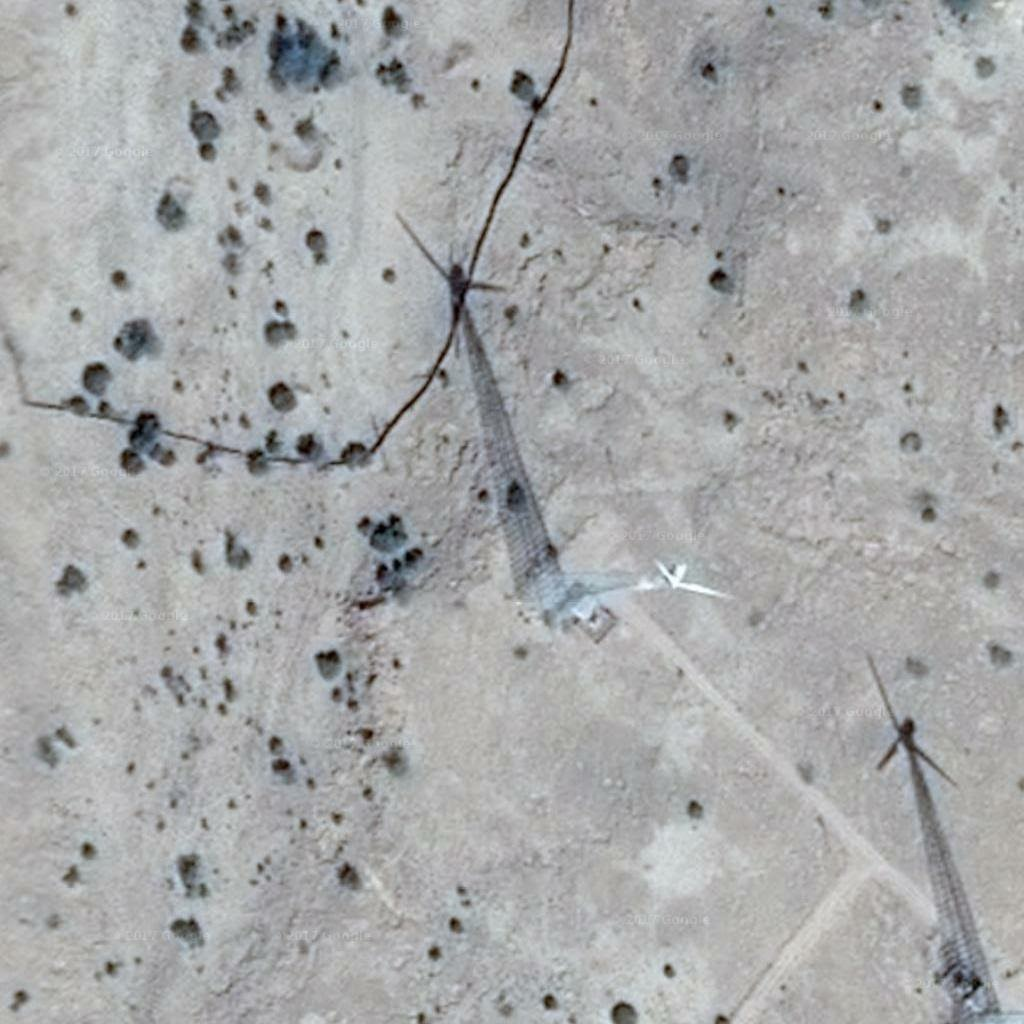Windmill: (398, 218, 579, 628)
